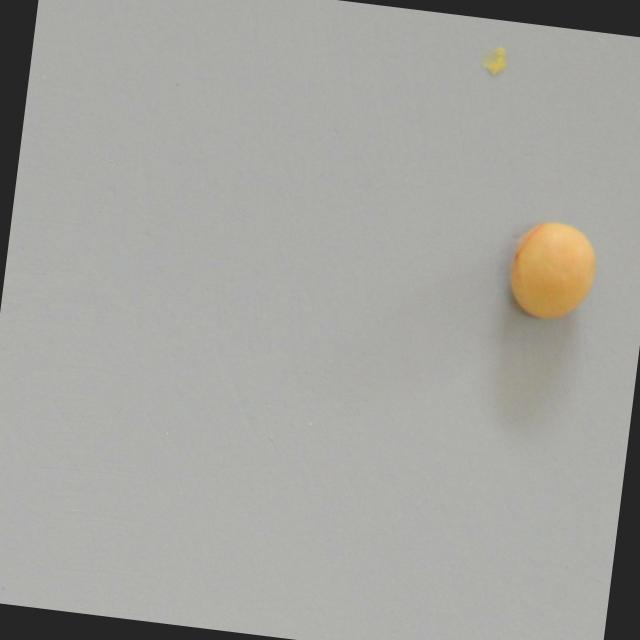cuerpos_extranos: (500, 220, 604, 330)
